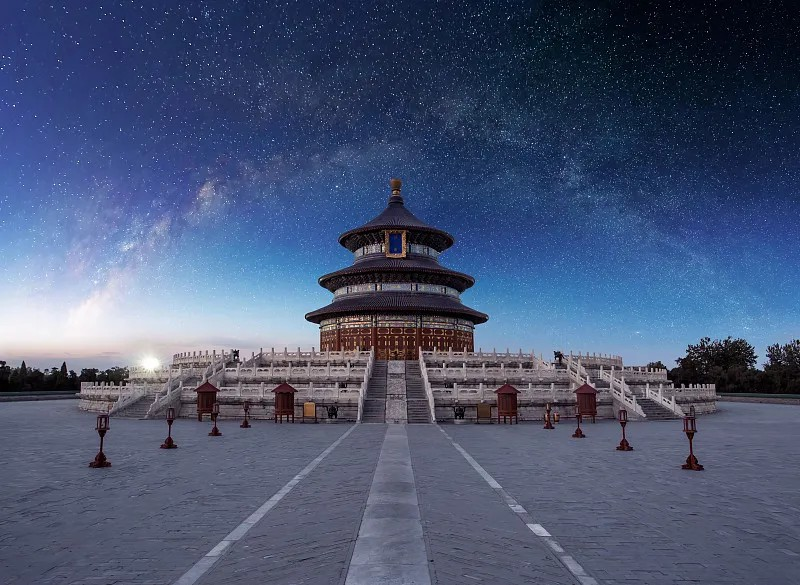Heaven: (304, 178, 491, 360)
